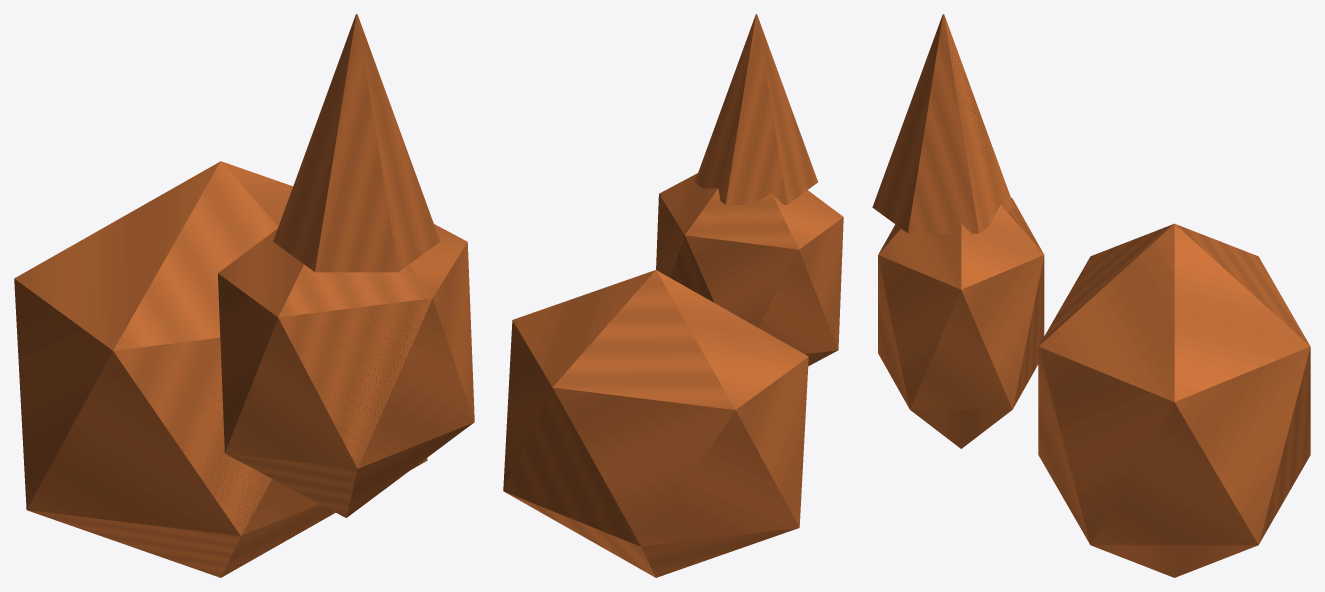
The model's file is cinder_seal.glb.
3 renders of one model, left to right at view 1: azimuth 30°, elevation 25°; view 2: azimuth 150°, elevation 25°; view 3: azimuth 270°, elevation 25°, orthographic. The views are drawn at different scales.
Parts seen in each view (by area): view 1: gear_cinder_seal; view 2: gear_cinder_seal; view 3: gear_cinder_seal.
Boxes of the visible parts, x1=… form: gear_cinder_seal: x1=14, y1=14, x2=474, y2=577; gear_cinder_seal: x1=503, y1=14, x2=843, y2=577; gear_cinder_seal: x1=872, y1=14, x2=1310, y2=577.
Size of the model in its own units: 0.2147 by 0.35 by 0.2466.
1 material, 1 textured.
